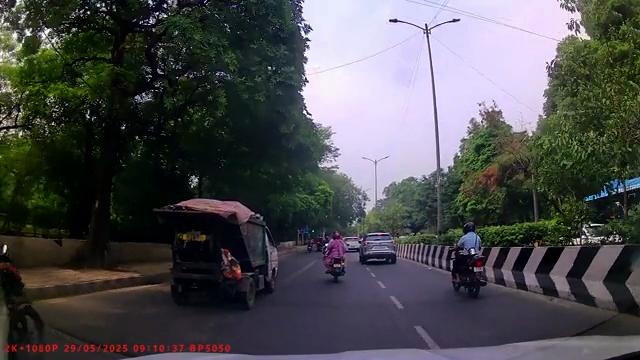motorcycle_with_helmet: (451, 220, 487, 298)
passenger_with_helmet: (323, 229, 348, 283)
